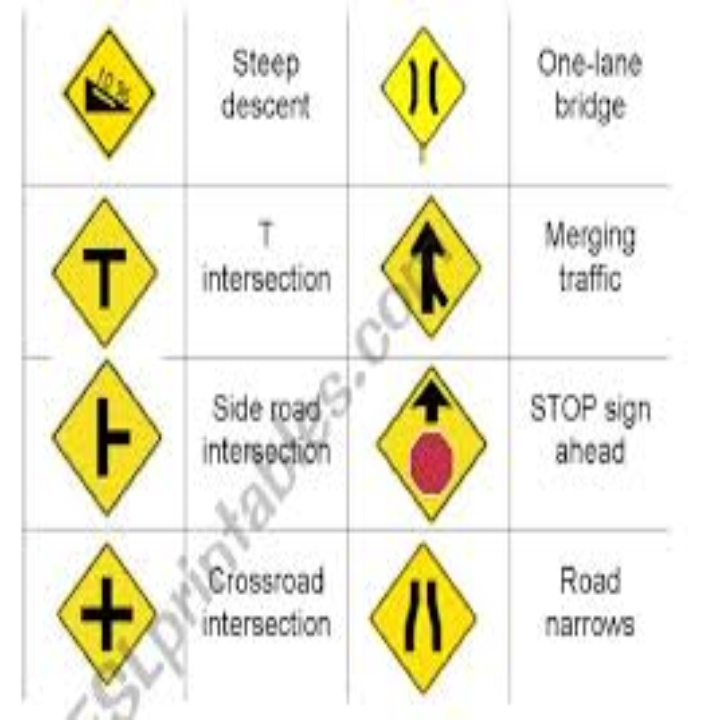inter: (77, 574, 139, 654)
